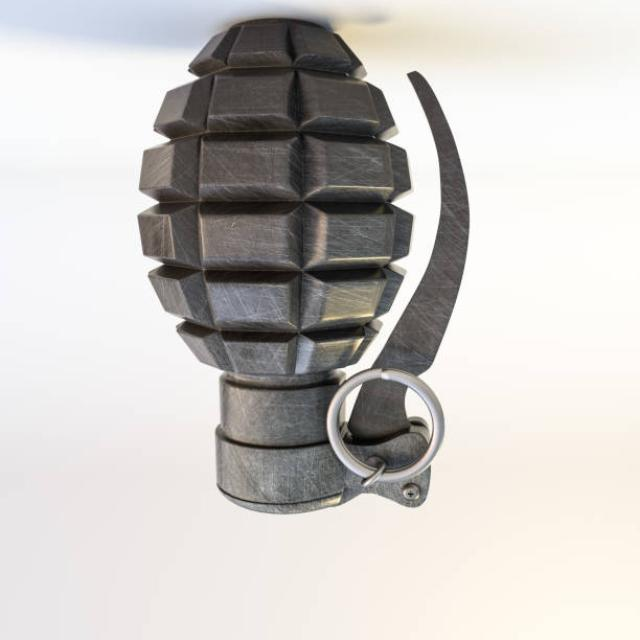grenade: (132, 11, 498, 543)
